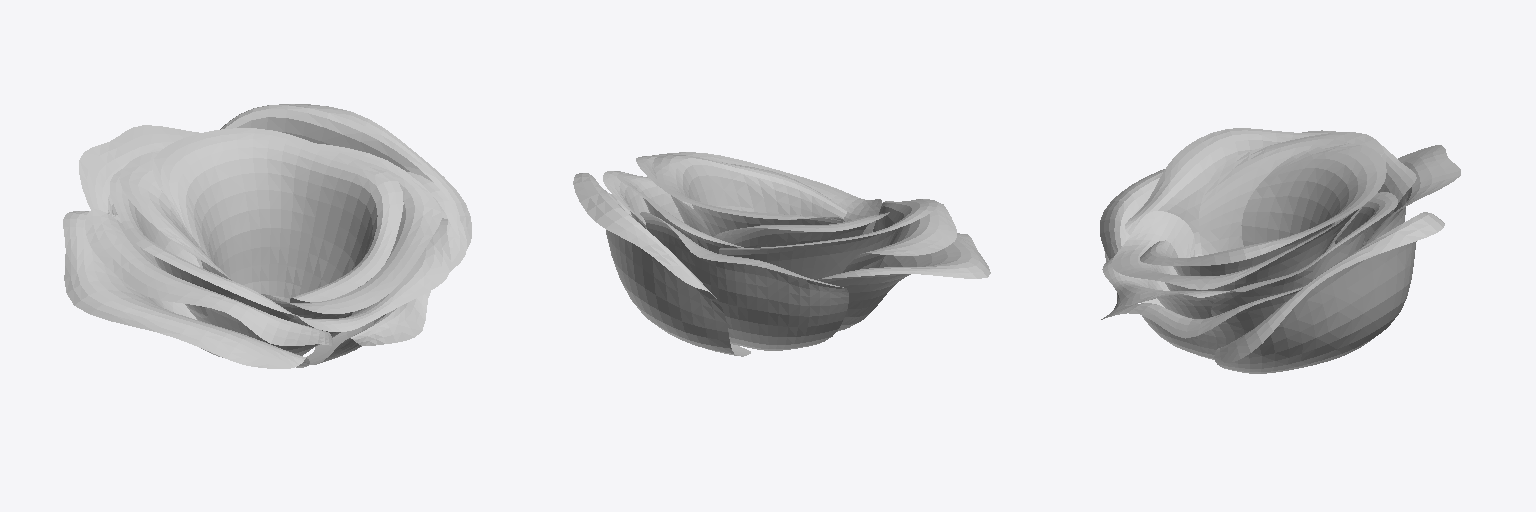
File: RoseOut.obj
3 renders of one model, left to right at view 1: azimuth 30°, elevation 25°; view 2: azimuth 150°, elevation 25°; view 3: azimuth 270°, elevation 25°, orthographic.
Visible parts, largest first — view 1: mgOut_mgout; view 2: mgOut_mgout; view 3: mgOut_mgout.
Boxes of the visible parts, x1=… form: mgOut_mgout: x1=63, y1=104, x2=471, y2=368; mgOut_mgout: x1=573, y1=152, x2=990, y2=356; mgOut_mgout: x1=1100, y1=128, x2=1460, y2=373.
Bounding box in the file's own units: 69.73 × 27.96 × 54.55.